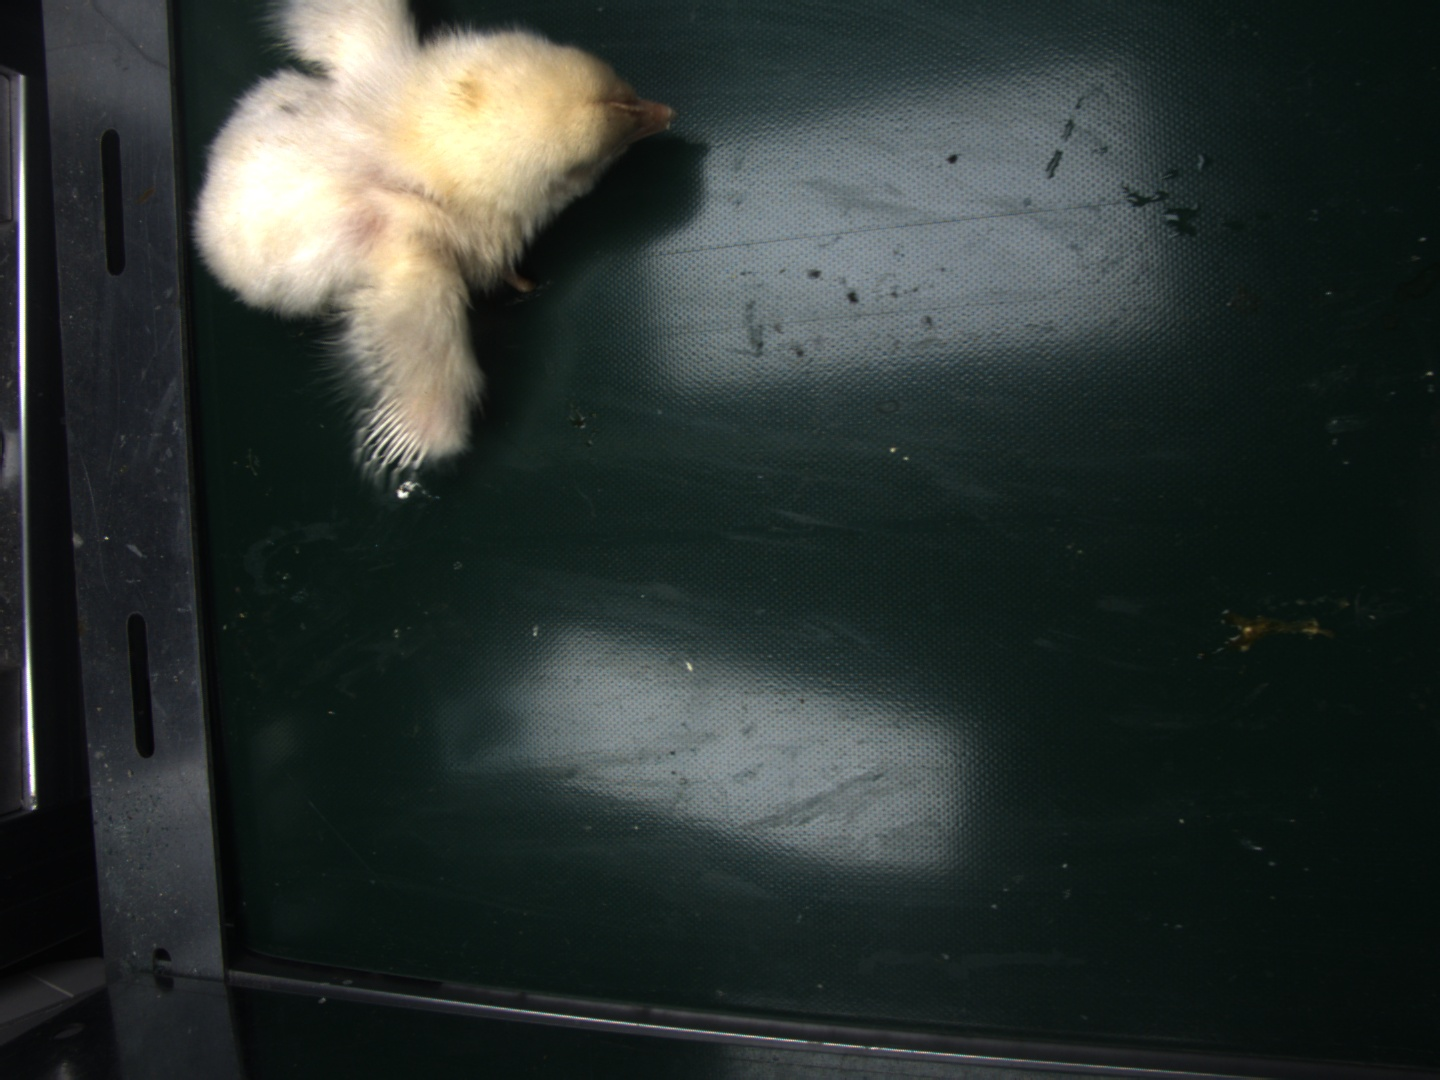male: (363, 393, 430, 471)
